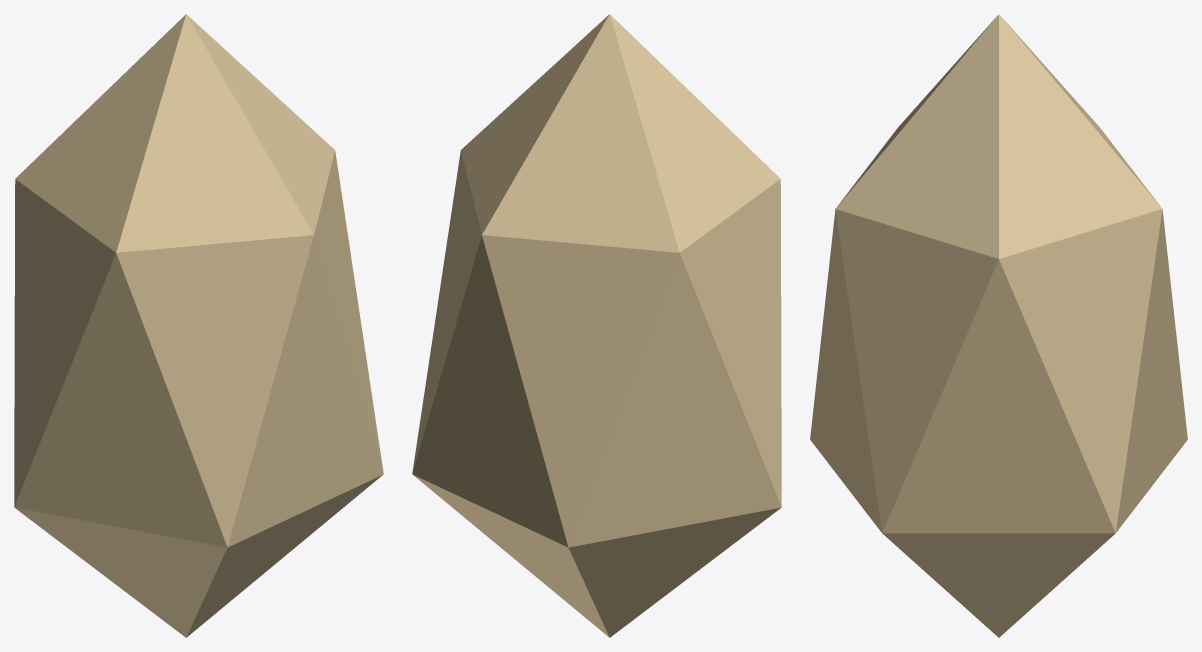
Rendered from CropSeed.fbx.
3 views of the same model, side by side, from view 1: azimuth 30°, elevation 25°; view 2: azimuth 150°, elevation 25°; view 3: azimuth 270°, elevation 25° (orthographic).
Parts seen in each view (by area): view 1: Crop_Seed; view 2: Crop_Seed; view 3: Crop_Seed.
Part boxes in pixels (x1,y1,x2,y2): Crop_Seed: [14, 14, 383, 637]; Crop_Seed: [412, 14, 781, 637]; Crop_Seed: [810, 14, 1187, 637].
Size of the model in its own units: 0.0334 by 0.062 by 0.034.
